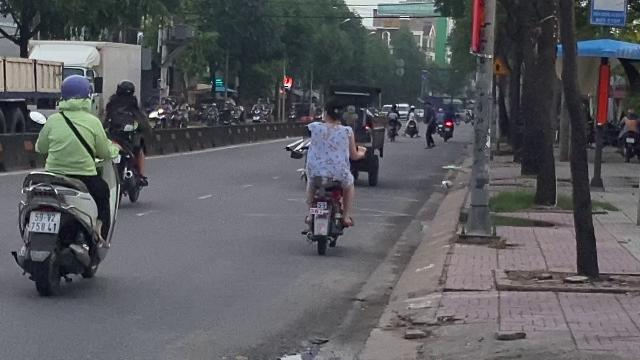helmet: (58, 74, 92, 108), (114, 78, 138, 98)
licenseplate: (29, 212, 60, 232)
motorcyclist: (9, 70, 120, 296), (296, 95, 360, 255), (100, 76, 152, 206)
nohelmet: (321, 97, 344, 123)
